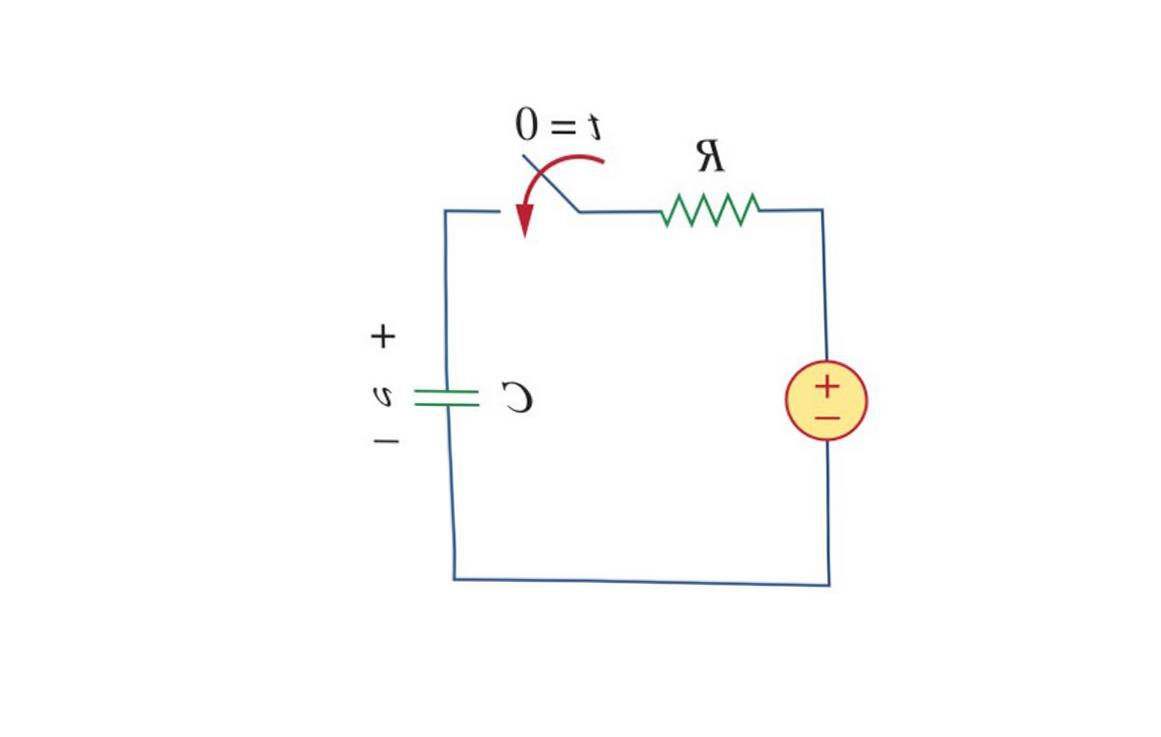Battery: (743, 334, 912, 458)
